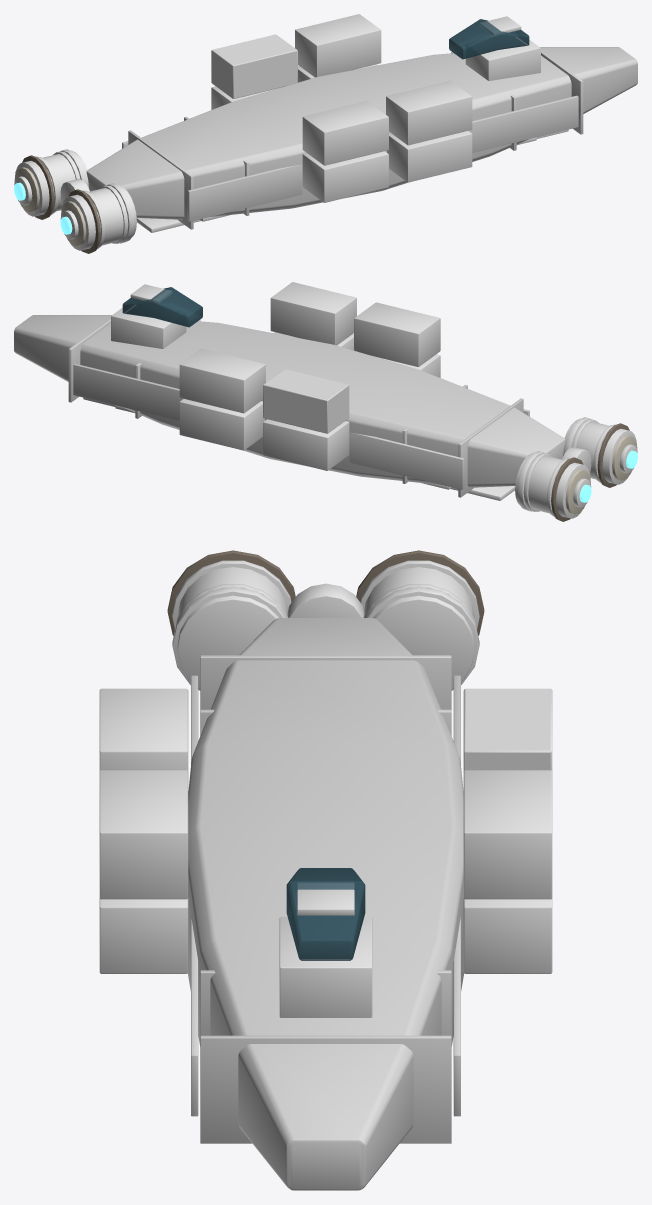
Rendered from helios_span_production_v1_lod2.glb.
The picture shows the model from 3 angles, top to bottom: view 1: azimuth 30°, elevation 25°; view 2: azimuth 150°, elevation 25°; view 3: azimuth 270°, elevation 25°; orthographic projection. The views are drawn at different scales.
Visible parts, largest first — view 1: LOD2_Hull, LOD2_Armor, LOD2_Mechanical, LOD2_Canopy, LOD2_Ceramic, LOD2_Radiator, LOD2_Thruster; view 2: LOD2_Hull, LOD2_Armor, LOD2_Mechanical, LOD2_Canopy, LOD2_Ceramic, LOD2_Radiator, LOD2_Thruster; view 3: LOD2_Hull, LOD2_Armor, LOD2_Mechanical, LOD2_Canopy, LOD2_Radiator.
Boxes of the visible parts, left/top/right/bottom form: LOD2_Hull: left=86, top=47, right=637, bottom=229; LOD2_Armor: left=36, top=14, right=540, bottom=249; LOD2_Mechanical: left=14, top=129, right=568, bottom=250; LOD2_Canopy: left=449, top=19, right=529, bottom=59; LOD2_Ceramic: left=14, top=167, right=86, bottom=246; LOD2_Radiator: left=22, top=155, right=100, bottom=253; LOD2_Thruster: left=14, top=182, right=72, bottom=234; LOD2_Hull: left=14, top=315, right=565, bottom=497; LOD2_Armor: left=111, top=282, right=615, bottom=517; LOD2_Mechanical: left=83, top=397, right=637, bottom=518; LOD2_Canopy: left=122, top=287, right=202, bottom=327; LOD2_Ceramic: left=565, top=435, right=637, bottom=514; LOD2_Radiator: left=551, top=423, right=629, bottom=521; LOD2_Thruster: left=579, top=450, right=637, bottom=502; LOD2_Hull: left=187, top=618, right=464, bottom=1190; LOD2_Armor: left=99, top=560, right=552, bottom=1017; LOD2_Mechanical: left=177, top=567, right=474, bottom=689; LOD2_Canopy: left=286, top=868, right=365, bottom=960; LOD2_Radiator: left=167, top=550, right=484, bottom=635.
Size of what is drawn, in the model's own units: 18.98 by 3.58 by 6.34.
